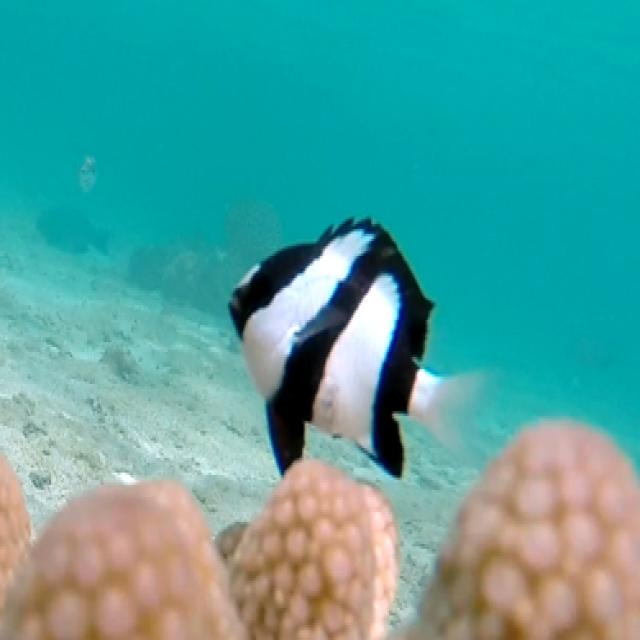ThreeStripedDamselfish: (228, 217, 482, 478)
